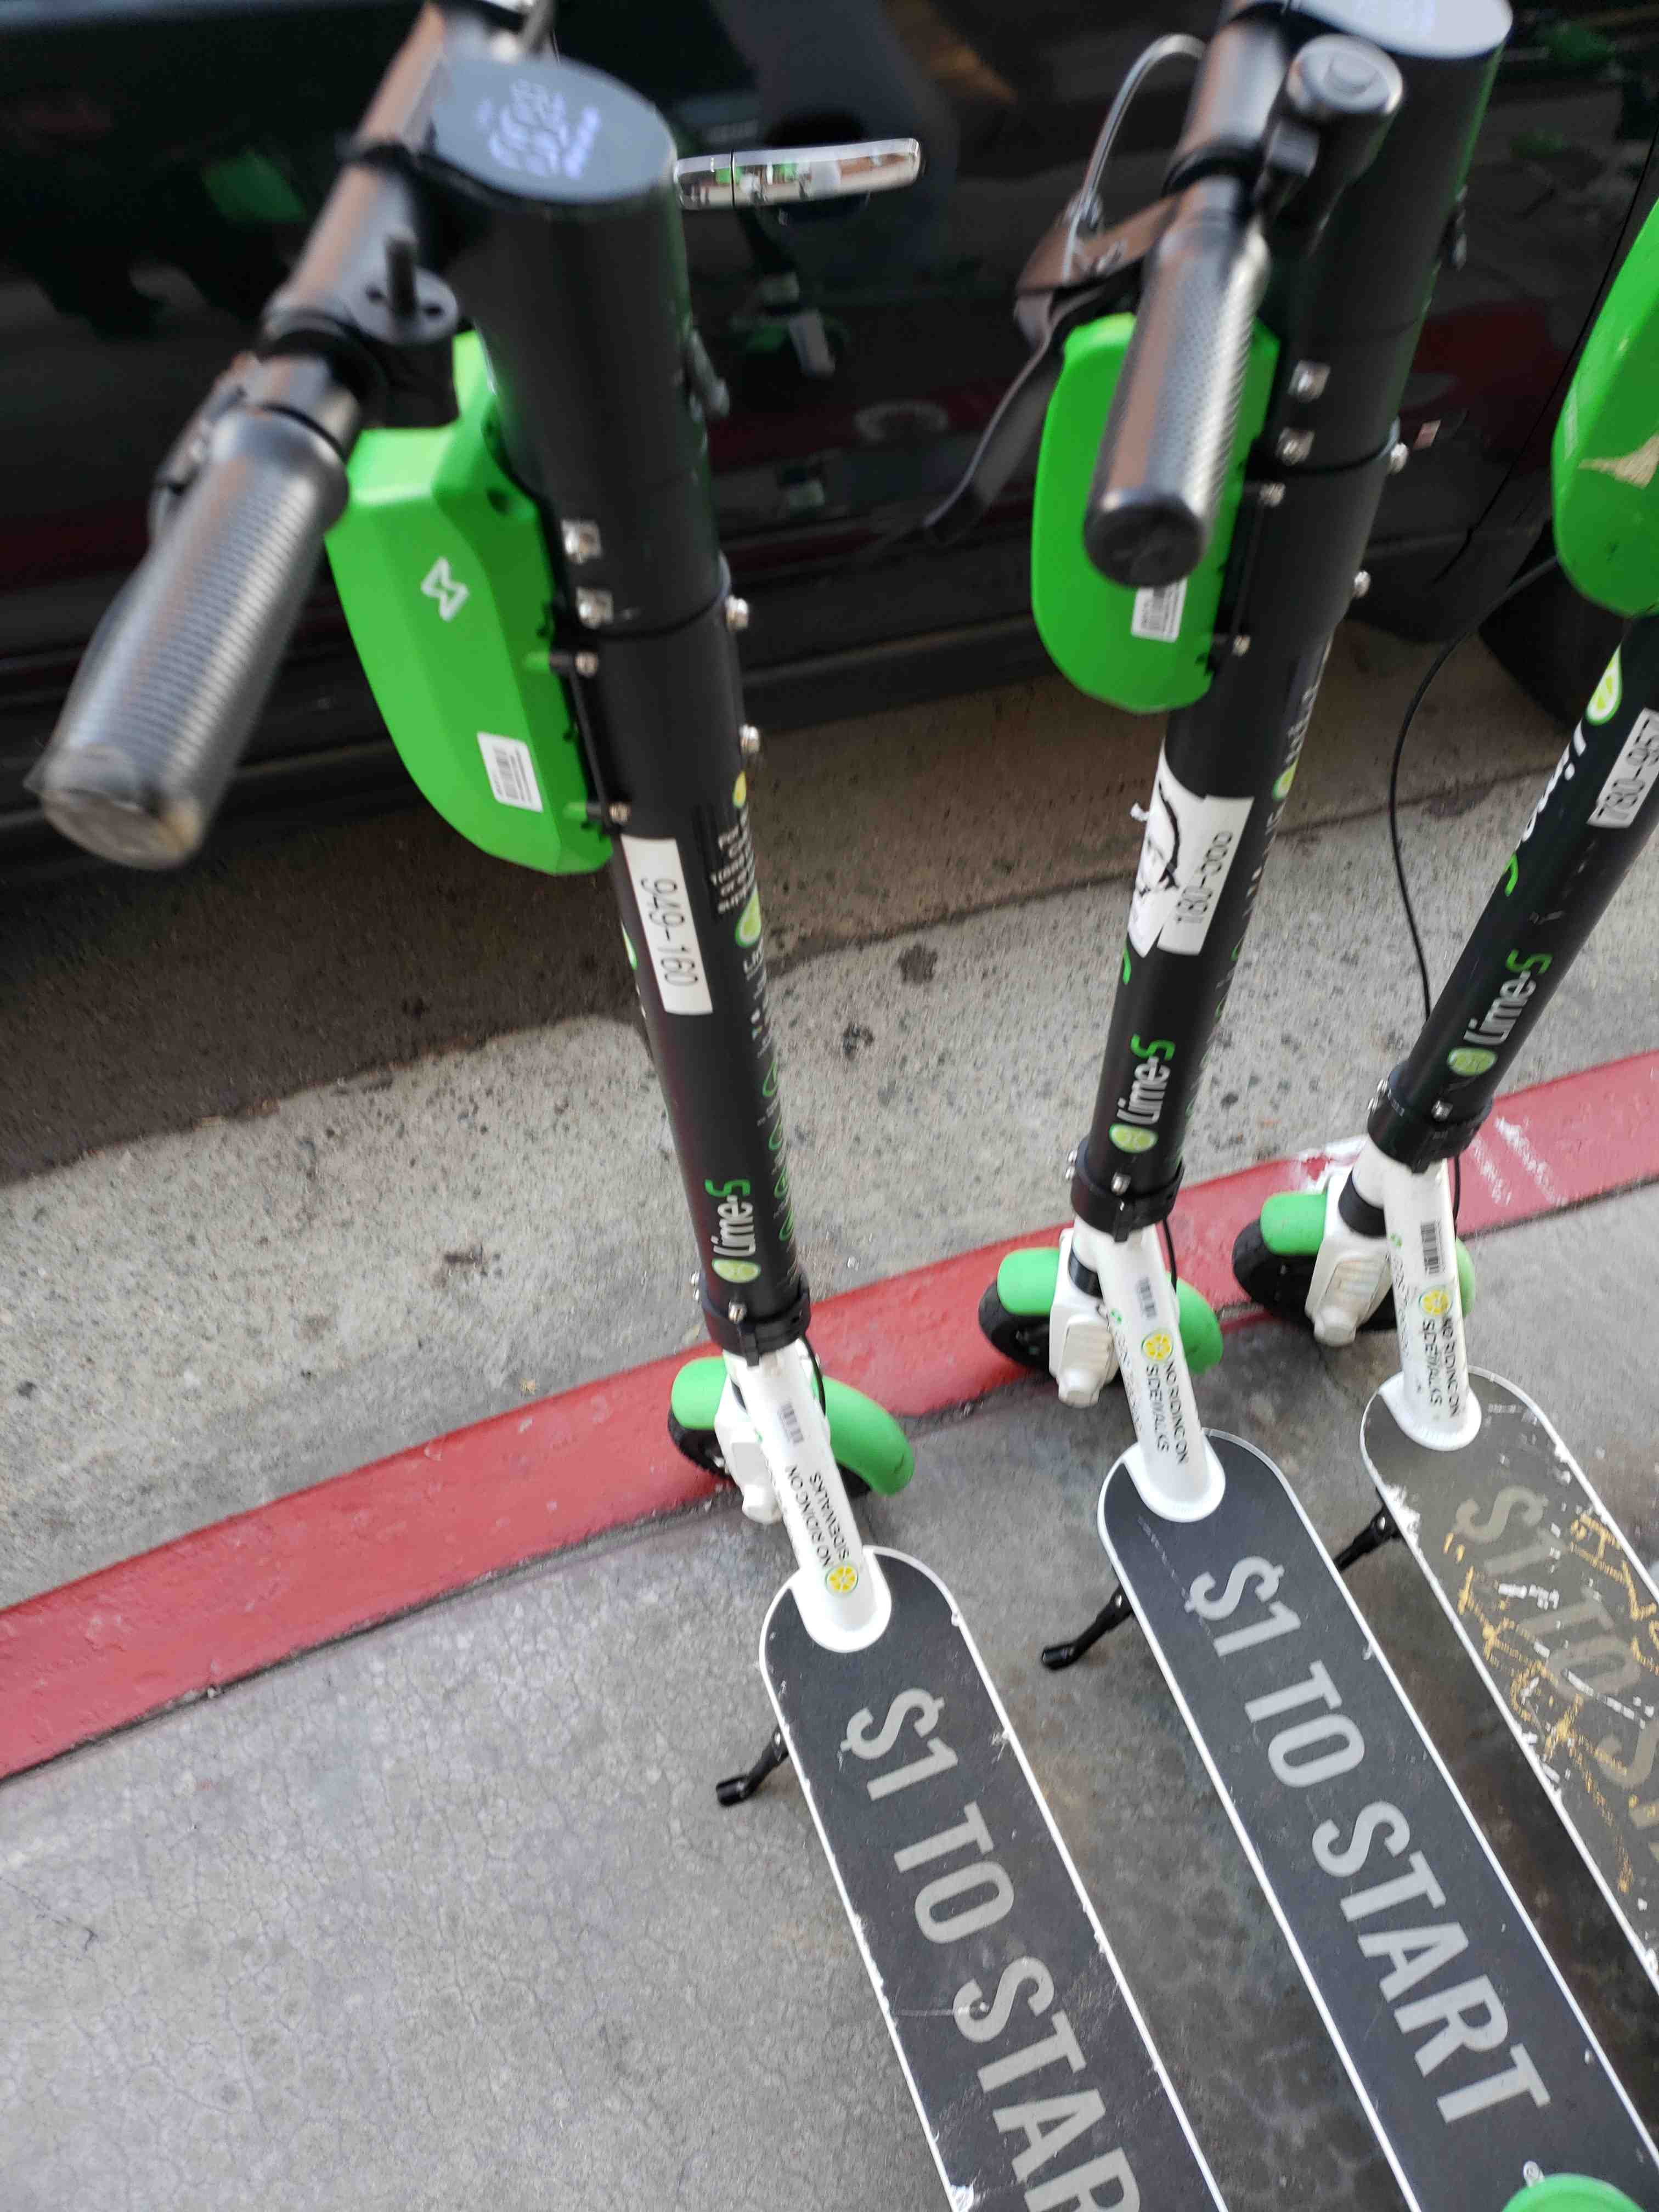too close: (587, 1252, 981, 1606), (913, 1163, 1276, 1503), (1216, 1090, 1572, 1423)
